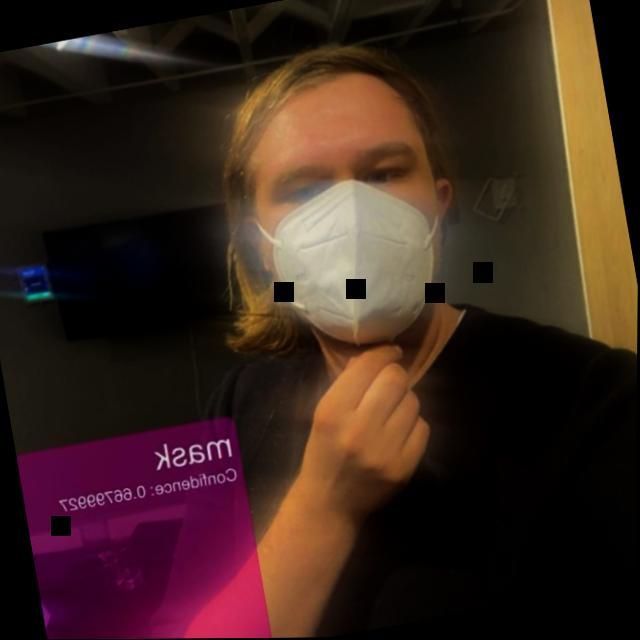Mask: (176, 22, 481, 381)
